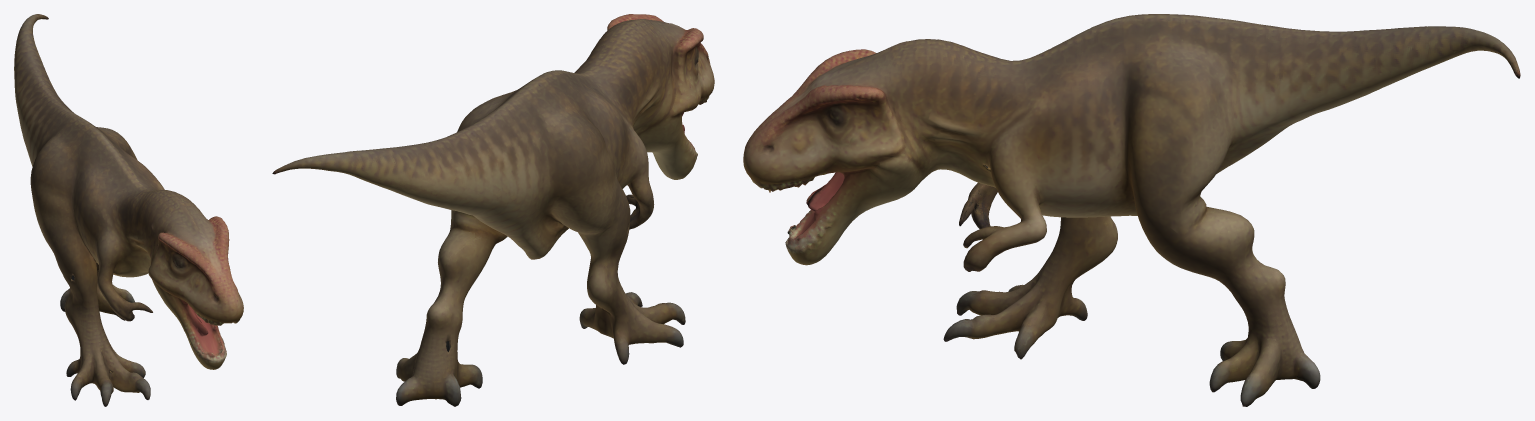
3 views of the same model, side by side, from view 1: azimuth 30°, elevation 25°; view 2: azimuth 150°, elevation 25°; view 3: azimuth 270°, elevation 25° (orthographic). The views are drawn at different scales.
Visible parts, largest first — view 1: world; view 2: world; view 3: world.
Boxes of the visible parts, <box> form: world: <box>14,14,243,406</box>; world: <box>272,14,714,406</box>; world: <box>743,14,1520,406</box>.
Size of the model in its own units: 2.77 by 4.29 by 8.5.
1 material, 1 textured.
